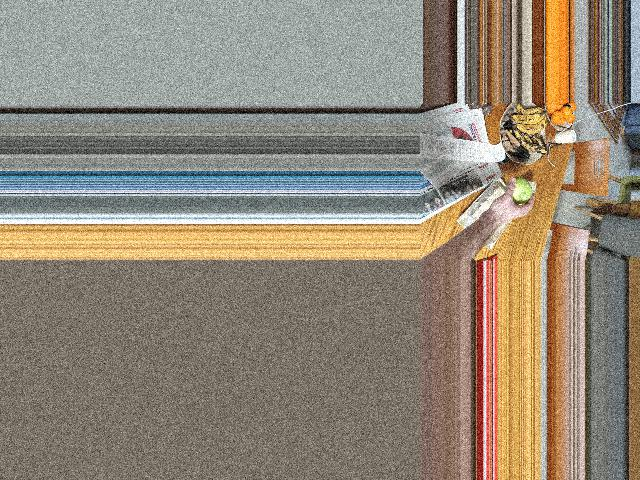apple: (508, 178, 533, 210)
